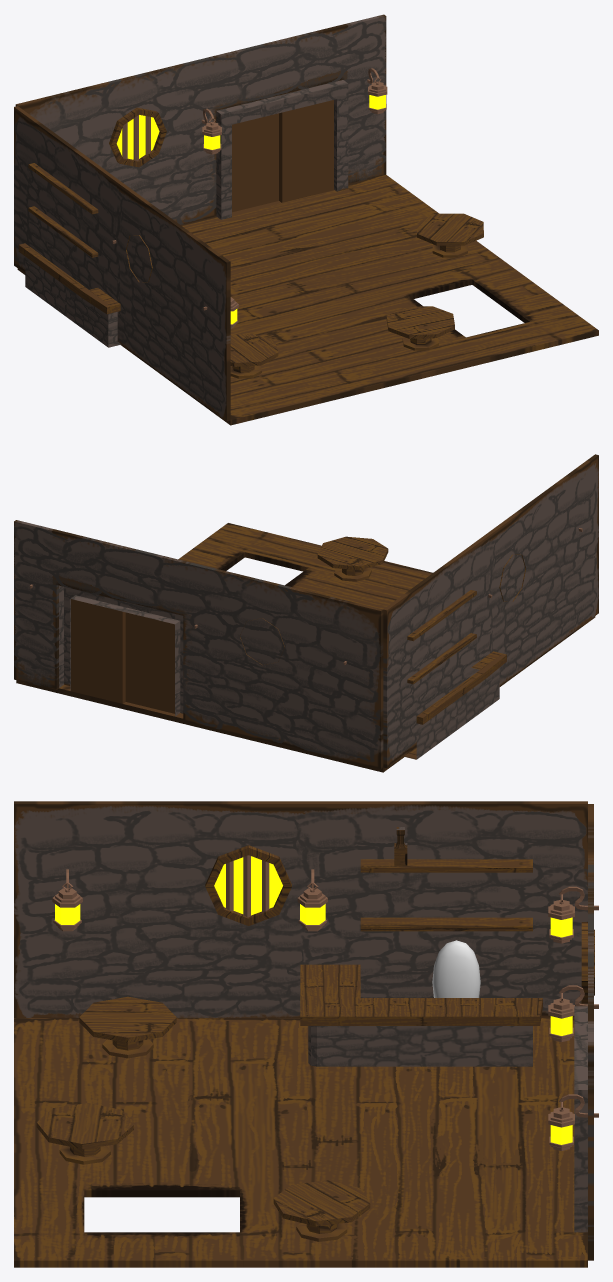
The model's file is Taverna.fbx.
3 views of the same model, one above another, from view 1: azimuth 30°, elevation 25°; view 2: azimuth 150°, elevation 25°; view 3: azimuth 270°, elevation 25° (orthographic). The views are drawn at different scales.
Visible parts, largest first — view 1: taverna_chao, taverna_parede_1, taverna_parede_2, porta, balcao_e_estantes, porta_frame, Cube.019, mesa_0, mesa_0.002, mesa_0.001, lamparina_4, lamparina_5; view 2: taverna_parede_2, taverna_parede_1, taverna_chao, porta, balcao_e_estantes, porta_frame, mesa_0; view 3: taverna_chao, taverna_parede_1, balcao_e_estantes, Cube.003, mesa_0.002, mesa_0, mesa_0.001, porta_frame, taverna_parede_2, Cube.001, lamparina_3, lamparina_5 (+4 smaller).
Boxes of the visible parts, box(x1,y1,x2,y2) form: taverna_chao: box(17, 175, 598, 425); taverna_parede_1: box(14, 106, 230, 420); taverna_parede_2: box(15, 14, 386, 224); porta: box(232, 100, 333, 214); balcao_e_estantes: box(18, 163, 121, 347); porta_frame: box(216, 80, 348, 219); Cube.019: box(109, 107, 166, 167); mesa_0: box(386, 306, 454, 350); mesa_0.002: box(417, 213, 483, 257); mesa_0.001: box(230, 333, 278, 378); lamparina_4: box(201, 108, 221, 154); lamparina_5: box(367, 68, 387, 114); taverna_parede_2: box(14, 520, 383, 768); taverna_parede_1: box(383, 454, 598, 768); taverna_chao: box(16, 523, 595, 772); porta: box(71, 599, 174, 716); balcao_e_estantes: box(404, 590, 506, 759); porta_frame: box(59, 585, 183, 718); mesa_0: box(317, 536, 388, 581); taverna_chao: box(14, 1018, 587, 1267); taverna_parede_1: box(14, 801, 587, 1017); balcao_e_estantes: box(300, 859, 542, 1066); Cube.003: box(205, 845, 291, 925); mesa_0.002: box(273, 1180, 370, 1241); mesa_0: box(36, 1103, 133, 1164); mesa_0.001: box(79, 996, 176, 1058); porta_frame: box(574, 1006, 587, 1232); taverna_parede_2: box(588, 804, 593, 1260); Cube.001: box(432, 940, 480, 997); lamparina_3: box(548, 886, 598, 943); lamparina_5: box(548, 1094, 598, 1150).
Size of the model in its own units: 525 by 212 by 509.
Materials: 3 (1 with a texture image).
